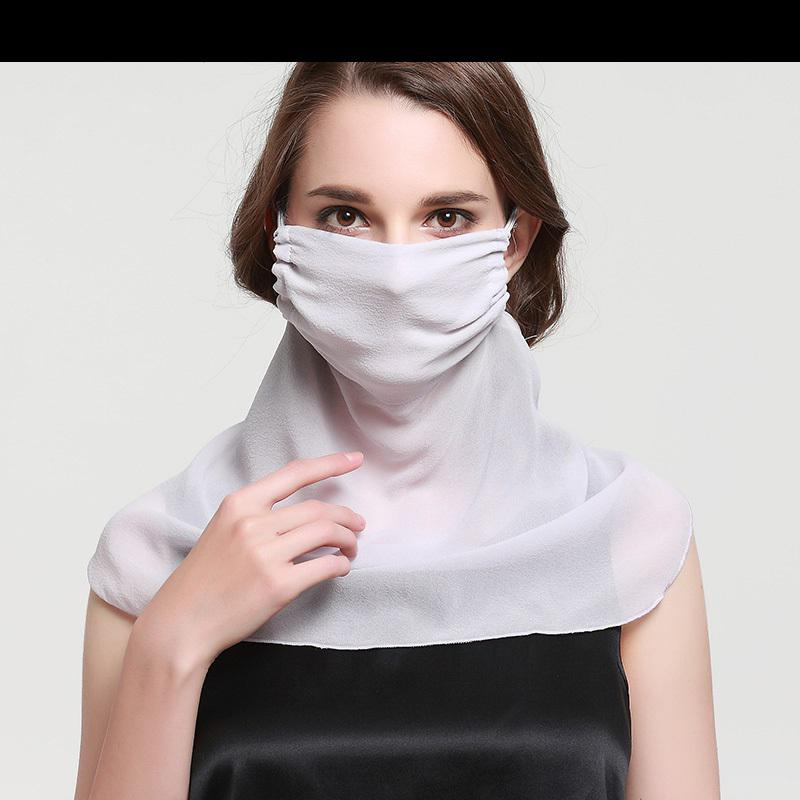OK: (290, 167, 515, 392)
